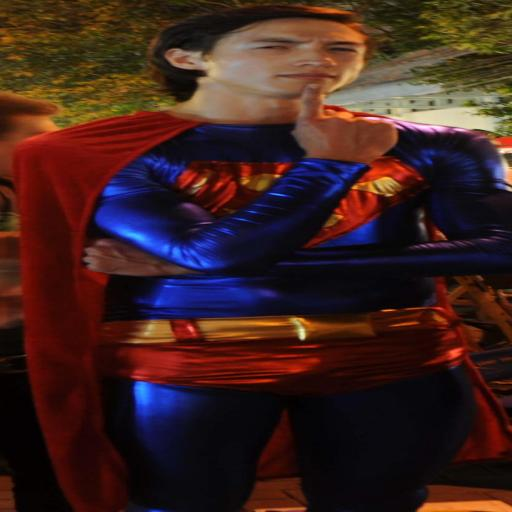person: (18, 6, 511, 511), (0, 92, 71, 511)
